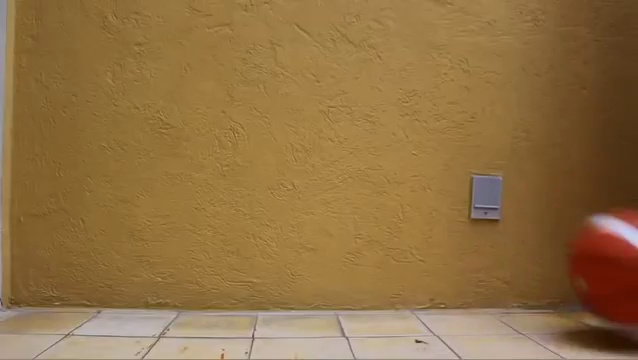ball: (566, 211, 636, 330)
